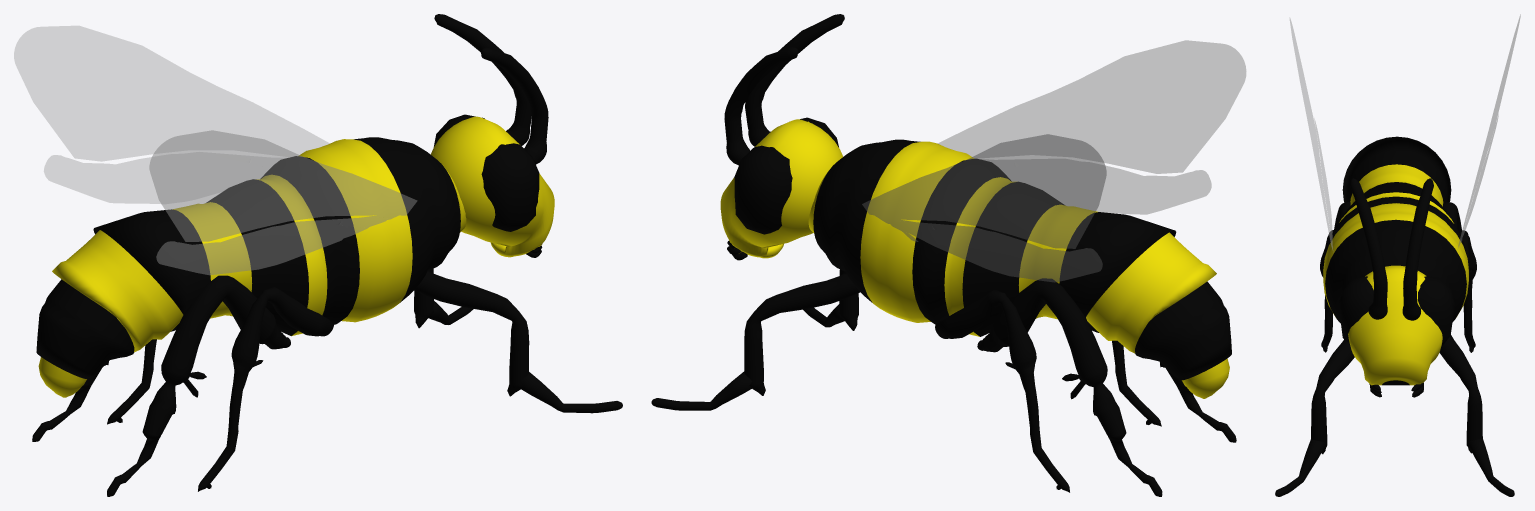
File: Bee.fbx
3 renders of one model, left to right at view 1: azimuth 30°, elevation 25°; view 2: azimuth 150°, elevation 25°; view 3: azimuth 270°, elevation 25°, orthographic. The views are drawn at different scales.
Visible parts, largest first — view 1: Bee; view 2: Bee; view 3: Bee.
Part boxes in pixels (x1,y1,x2,y2): Bee: [14, 14, 622, 496]; Bee: [651, 14, 1246, 496]; Bee: [1275, 14, 1520, 496].
Bounding box in the file's own units: 86.57 × 62.67 × 44.3.
